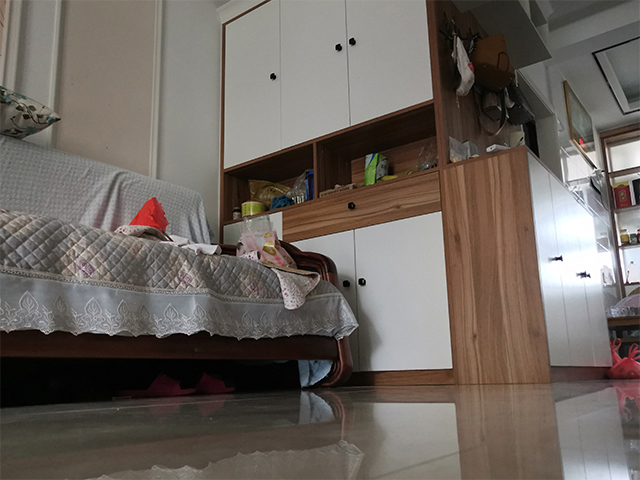cabinet: (488, 143, 613, 385), (339, 165, 460, 389)
slippers: (113, 370, 238, 398)
sofa: (1, 133, 355, 388)
